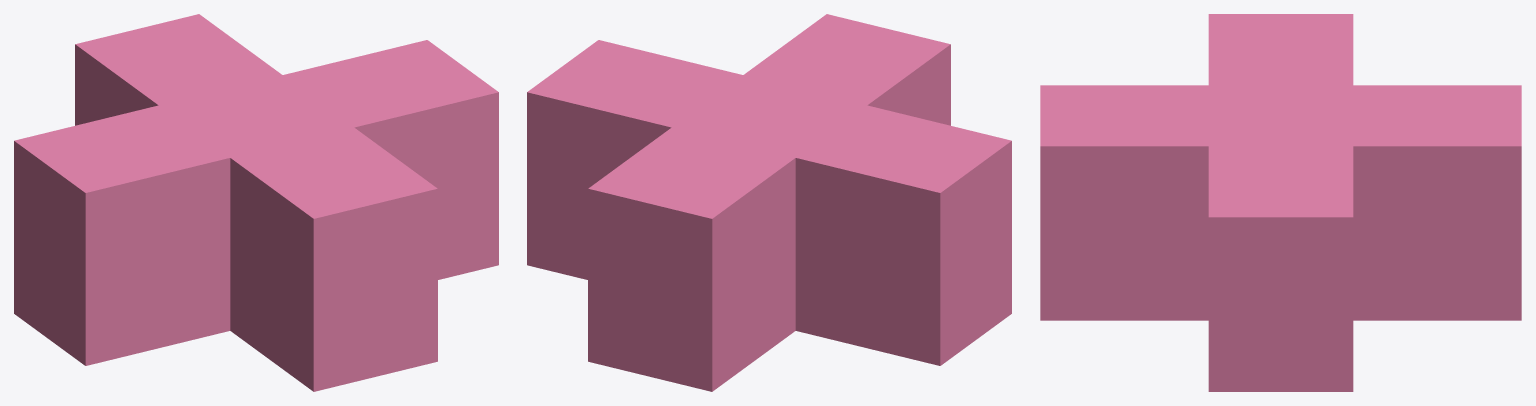
The model's file is add.glb.
3 renders of one model, left to right at view 1: azimuth 30°, elevation 25°; view 2: azimuth 150°, elevation 25°; view 3: azimuth 270°, elevation 25°, orthographic.
Visible parts, largest first — view 1: Cube.001; view 2: Cube.001; view 3: Cube.001.
Part boxes in pixels (x1=…): Cube.001: x1=14, y1=14, x2=498, y2=391; Cube.001: x1=527, y1=14, x2=1011, y2=391; Cube.001: x1=1040, y1=14, x2=1521, y2=391.
Bounding box in the file's own units: 1 × 0.4 × 1.
